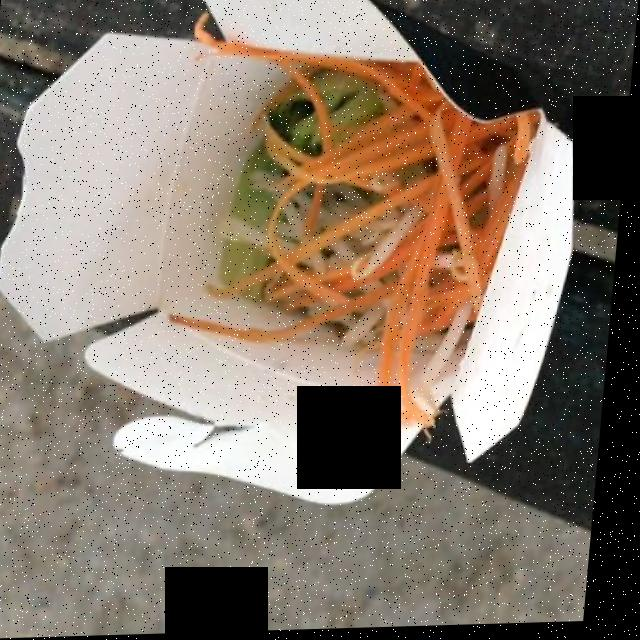mixed-vegetables: (216, 70, 517, 396)
